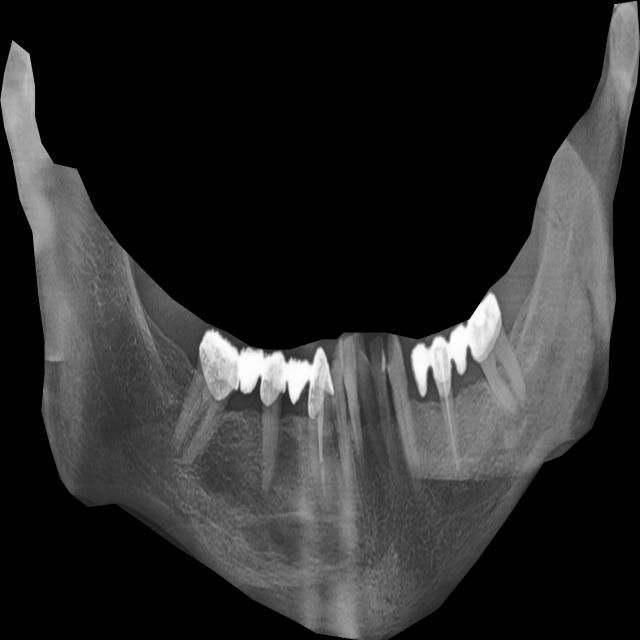mandibula: (0, 1, 640, 640)
